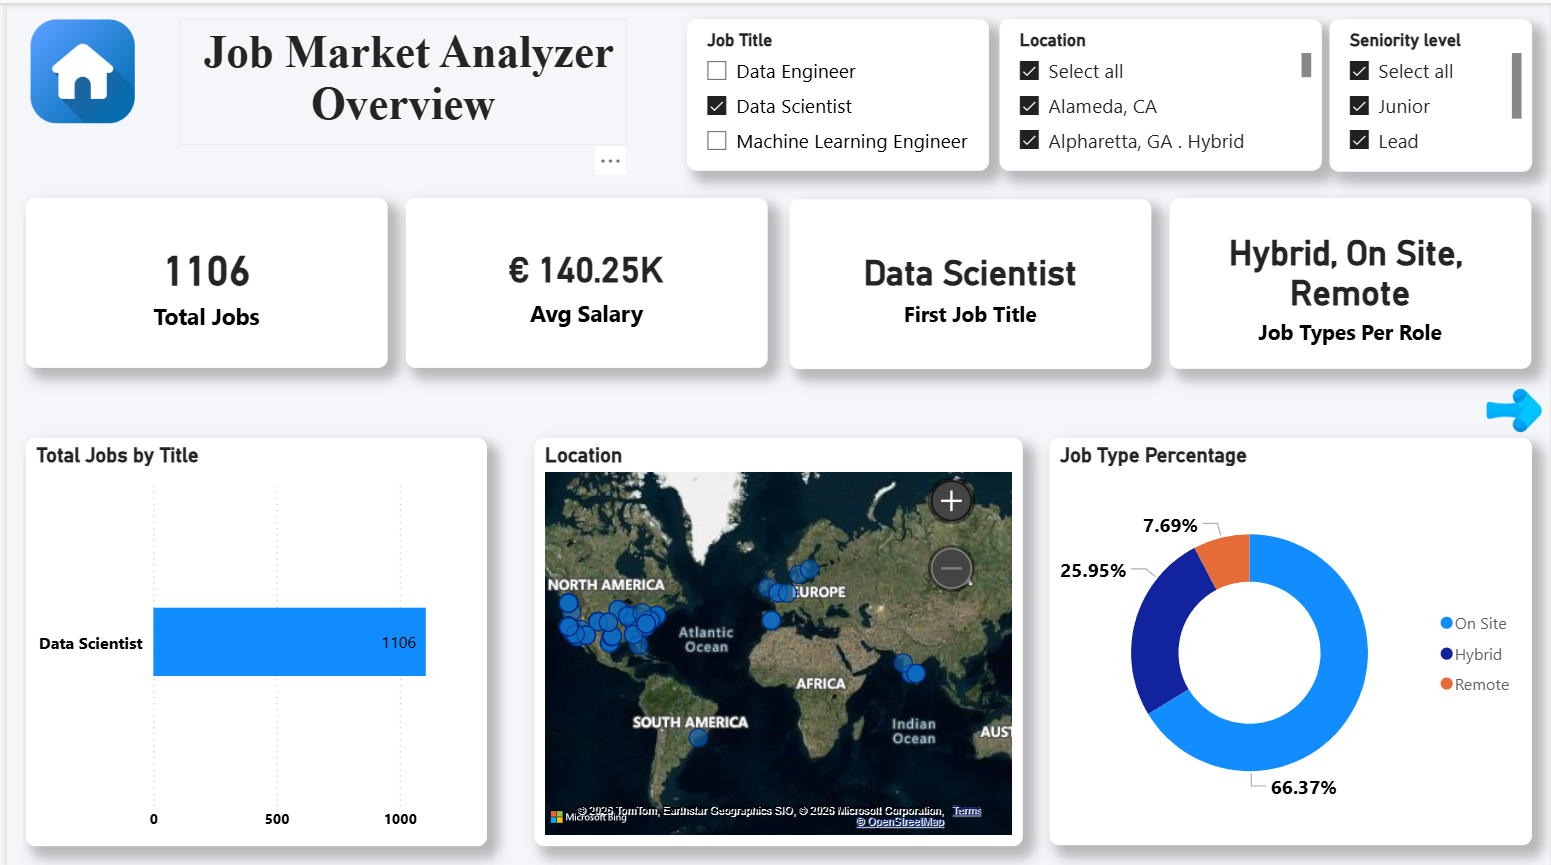

What the dashboard file says about the page in this screenshot:
{"tool":"powerbi","page":{"name":"OVERVIEW","canvas":[1280,720],"ordinal":0},"visuals":[{"type":"card","fields":{"Values":["data_science_job_posts_2025.Total Jobs"]},"box":[15.1,161.6,300,140.7],"z":0},{"type":"clusteredBarChart","title":"Total Jobs by Title","fields":{"Category":["data_science_job_posts_2025.job_title"],"Y":["data_science_job_posts_2025.Total Jobs"]},"box":[15.1,360.5,382.6,338.4],"z":1000},{"type":"map","title":"Location","fields":{"Category":["data_science_job_posts_2025.location"]},"box":[437.2,360.5,404.7,338.4],"z":2000},{"type":"card","fields":{"Values":["data_science_job_posts_2025.Avg Salary"]},"box":[330.2,161.6,300,140.7],"z":3000},{"type":"textbox","box":[143,14,370.9,104.7],"z":4000},{"type":"slicer","fields":{"Values":["data_science_job_posts_2025.job_title"]},"box":[564,14,250,125.6],"z":5000},{"type":"slicer","fields":{"Values":["data_science_job_posts_2025.location"]},"box":[823.3,14,267.4,125.6],"z":6000},{"type":"slicer","fields":{"Values":["data_science_job_posts_2025.seniority_level"]},"box":[1111.6,14,168.6,125.6],"z":7000},{"type":"card","fields":{"Values":["Min(data_science_job_posts_2025.job_title)"]},"box":[648.8,162.8,300,140.7],"z":8000},{"type":"card","title":"Job Types Percentage","fields":{"Values":["data_science_job_posts_2025.Job Types Per Role"]},"box":[964,161.6,300,141.9],"z":9000},{"type":"donutChart","title":"Job Type Percentage","fields":{"Y":["CountNonNull(data_science_job_posts_2025.job type)"],"Category":["data_science_job_posts_2025.job type"]},"box":[864,360.5,400,337.2],"z":10000},{"type":"image","box":[15.1,14,94.2,86],"z":11000},{"type":"image","box":[1218.2,314.9,61.4,45.8],"z":12001}]}

Visuals, with their boxes in screenshot pixels (x1, y1, x2, y2), scaled from the page's 1280x720 canvas onto the 1551x865 screenshot:
card - data_science_job_posts_2025.Total Jobs: 18 194 382 363
"Total Jobs by Title" clusteredBarChart: 18 433 482 840
"Location" map: 530 433 1020 840
card - data_science_job_posts_2025.Avg Salary: 400 194 764 363
textbox: 173 17 623 143
slicer - data_science_job_posts_2025.job_title: 683 17 986 168
slicer - data_science_job_posts_2025.location: 998 17 1322 168
slicer - data_science_job_posts_2025.seniority_level: 1347 17 1550 168
card - Min(data_science_job_posts_2025.job_title): 786 196 1150 365
"Job Types Percentage" card: 1168 194 1532 365
"Job Type Percentage" donutChart: 1047 433 1532 838
image: 18 17 132 120
image: 1476 378 1550 433
